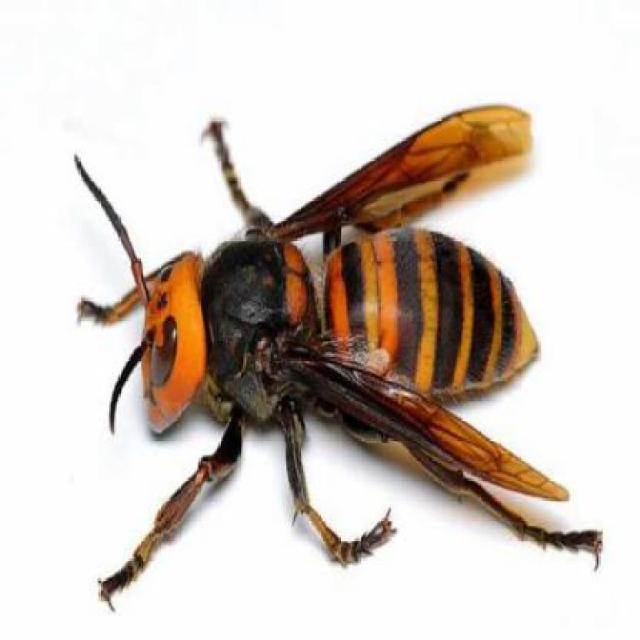Wasp: (62, 100, 606, 610)
